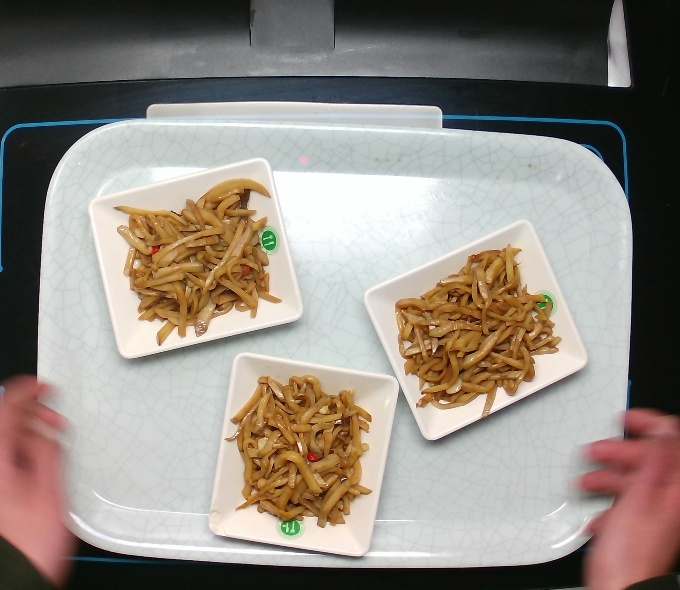wcq-LiangBanMoGu: (386, 239, 566, 423), (108, 170, 287, 350), (218, 372, 379, 533)
